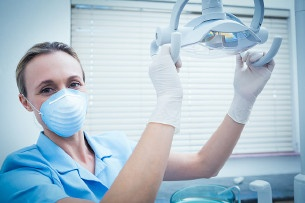Mask: (30, 72, 90, 132)
